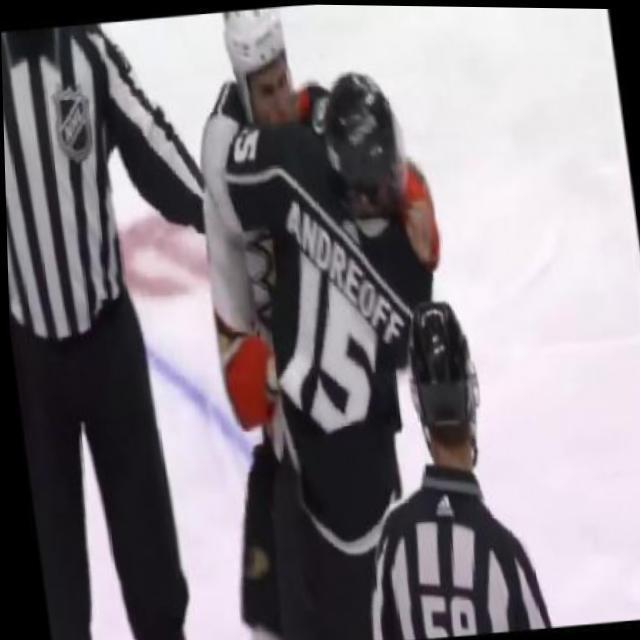fight: (173, 2, 474, 558)
